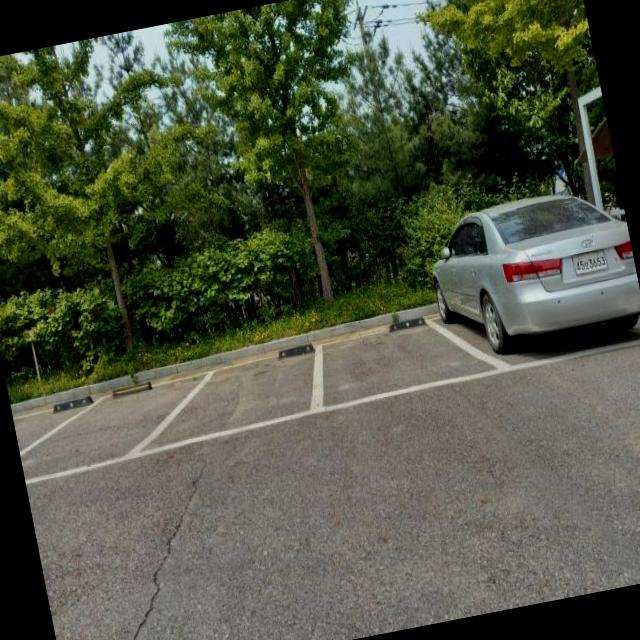car: (417, 176, 640, 366)
free: (12, 376, 200, 483), (183, 342, 334, 448), (320, 311, 456, 412)
